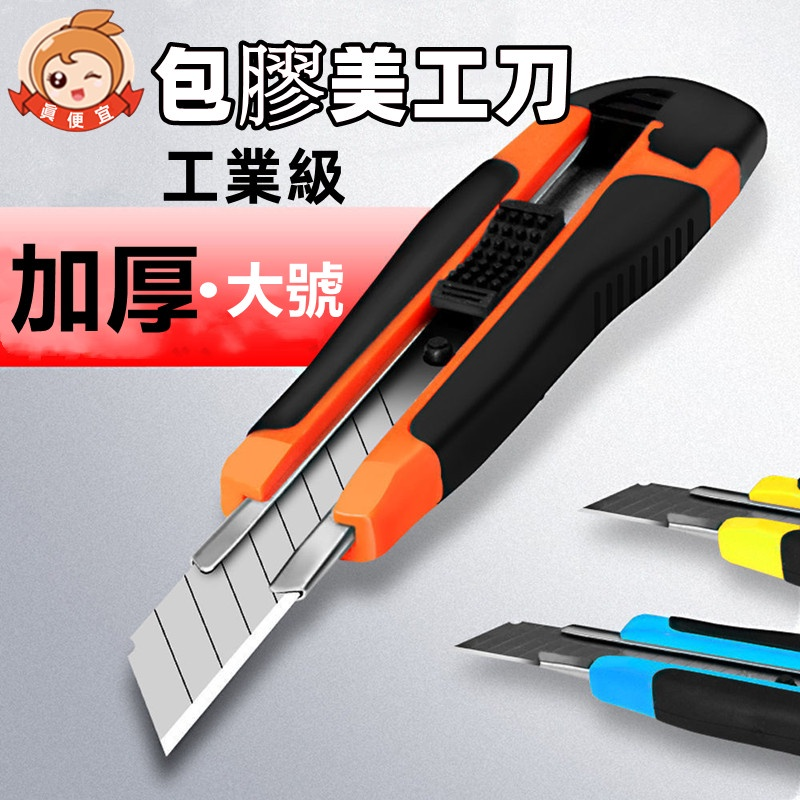cutter: (124, 75, 771, 760), (454, 611, 799, 759), (582, 468, 800, 591)
